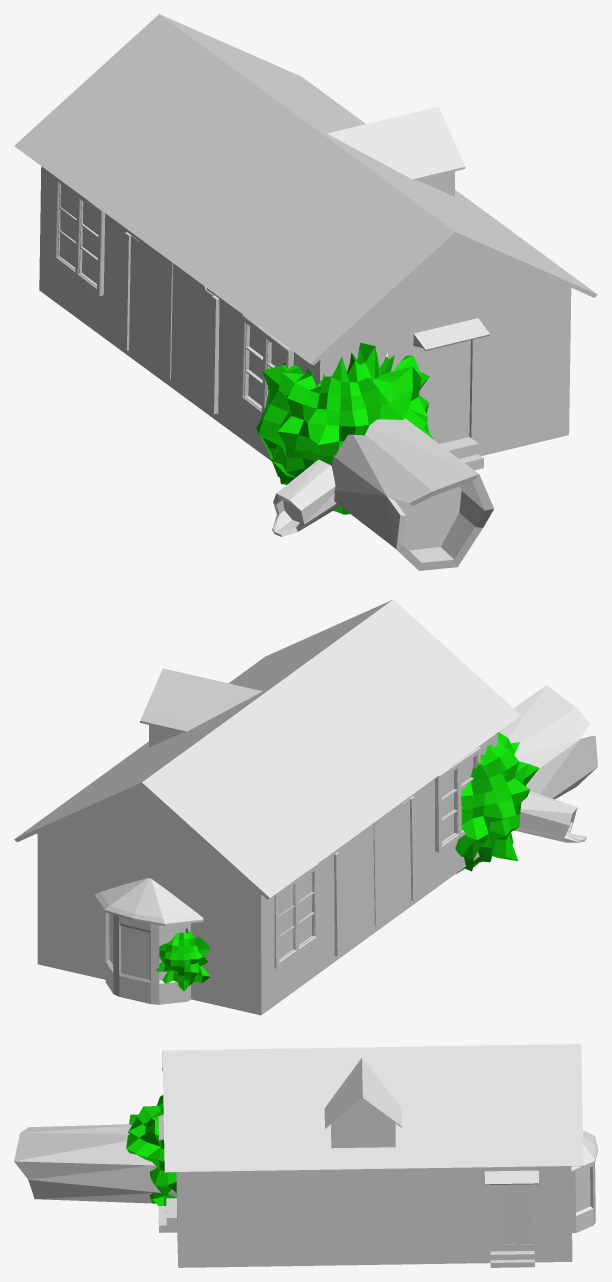
Rendered from CASA1ENDD.fbx.
The picture shows the model from 3 angles, top to bottom: view 1: azimuth 30°, elevation 25°; view 2: azimuth 150°, elevation 25°; view 3: azimuth 270°, elevation 25°; orthographic projection. The views are drawn at different scales.
Visible parts, largest first — view 1: Cube.008, Log.5, Sphere, Cube.005, Cube.001, Cube; view 2: Cube.008, Log.5, Cube.005, Sphere, Sphere.001, Cube.001, Cube; view 3: Cube.008, Log.5, Sphere, Anta.002.
Part boxes in pixels (<box>): Cube.008: <box>14,14,597,470</box>; Log.5: <box>272,418,493,570</box>; Sphere: <box>255,343,433,514</box>; Cube.005: <box>122,232,219,414</box>; Cube.001: <box>53,177,105,295</box>; Cube: <box>240,315,293,416</box>; Cube.008: <box>14,599,521,1015</box>; Log.5: <box>499,685,597,842</box>; Cube.005: <box>334,796,416,956</box>; Sphere: <box>455,732,539,873</box>; Sphere.001: <box>156,931,210,991</box>; Cube.001: <box>274,863,318,968</box>; Cube: <box>435,747,480,852</box>; Cube.008: <box>158,1044,597,1267</box>; Log.5: <box>14,1124,176,1203</box>; Sphere: <box>126,1095,176,1205</box>; Anta.002: <box>503,1184,538,1246</box>.
Bounding box in the file's own units: 11852 × 9277 × 24245.
